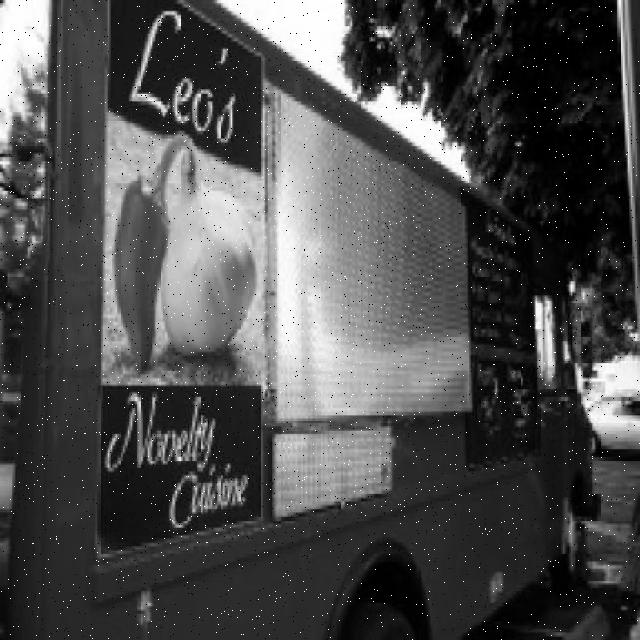Box Truck: (0, 0, 602, 640)
